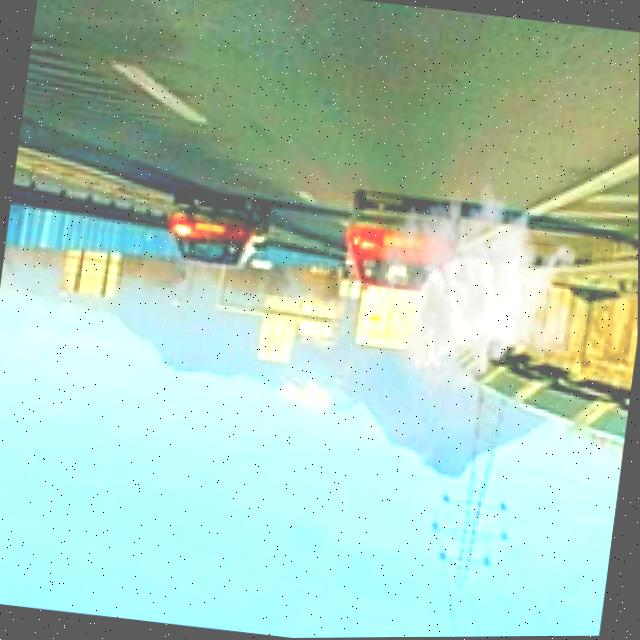Smoke: (358, 160, 595, 419)
